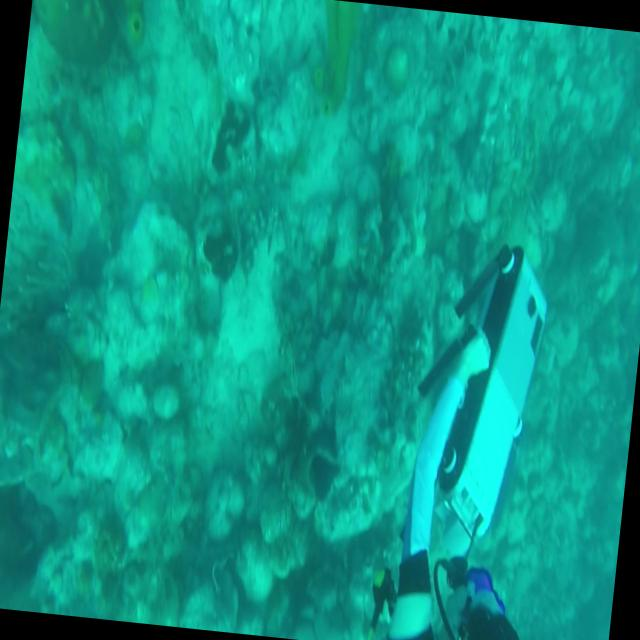human: (379, 233, 567, 640)
